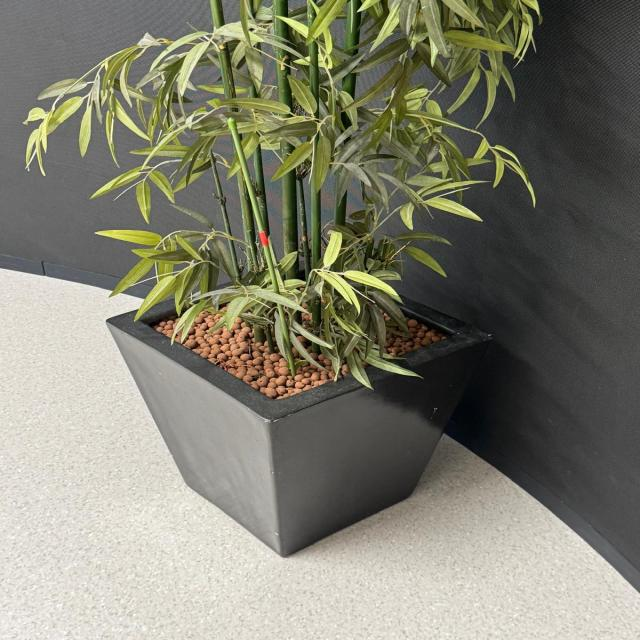Pot: (105, 253, 497, 558)
